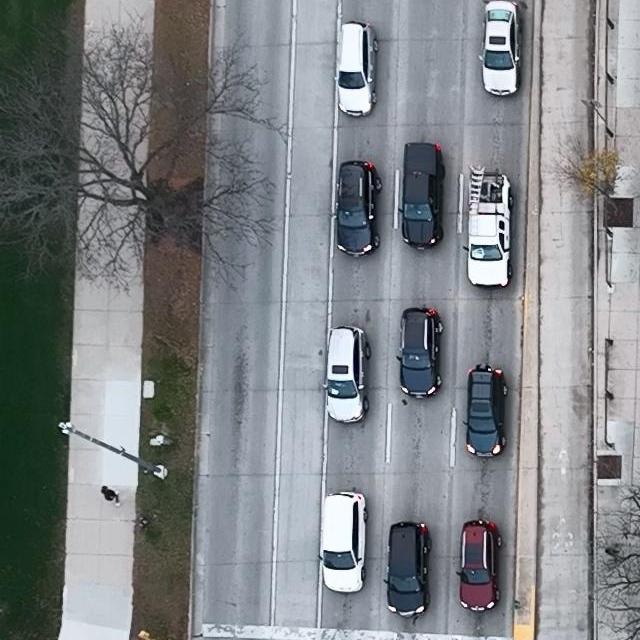car: (463, 165, 515, 289), (397, 142, 445, 251), (317, 492, 368, 594), (332, 160, 384, 259), (321, 325, 372, 423), (383, 521, 433, 618), (333, 22, 380, 118), (461, 363, 508, 458), (456, 520, 503, 613), (397, 307, 445, 398), (477, 0, 521, 98)
